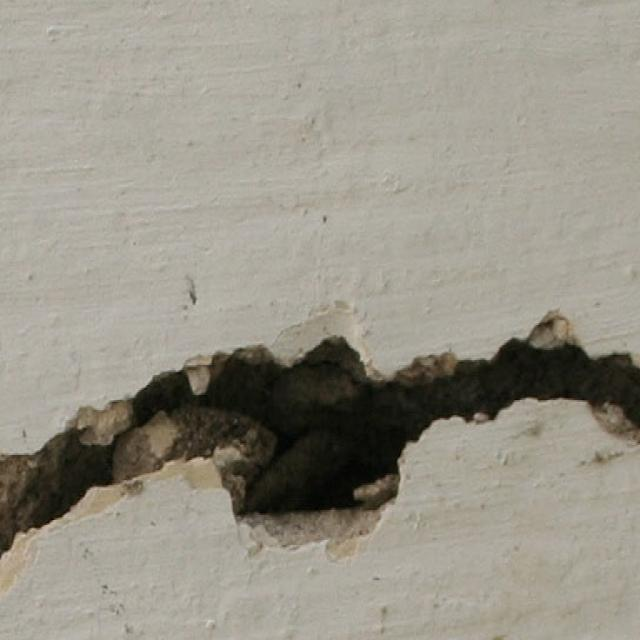spall: (0, 313, 639, 575)
